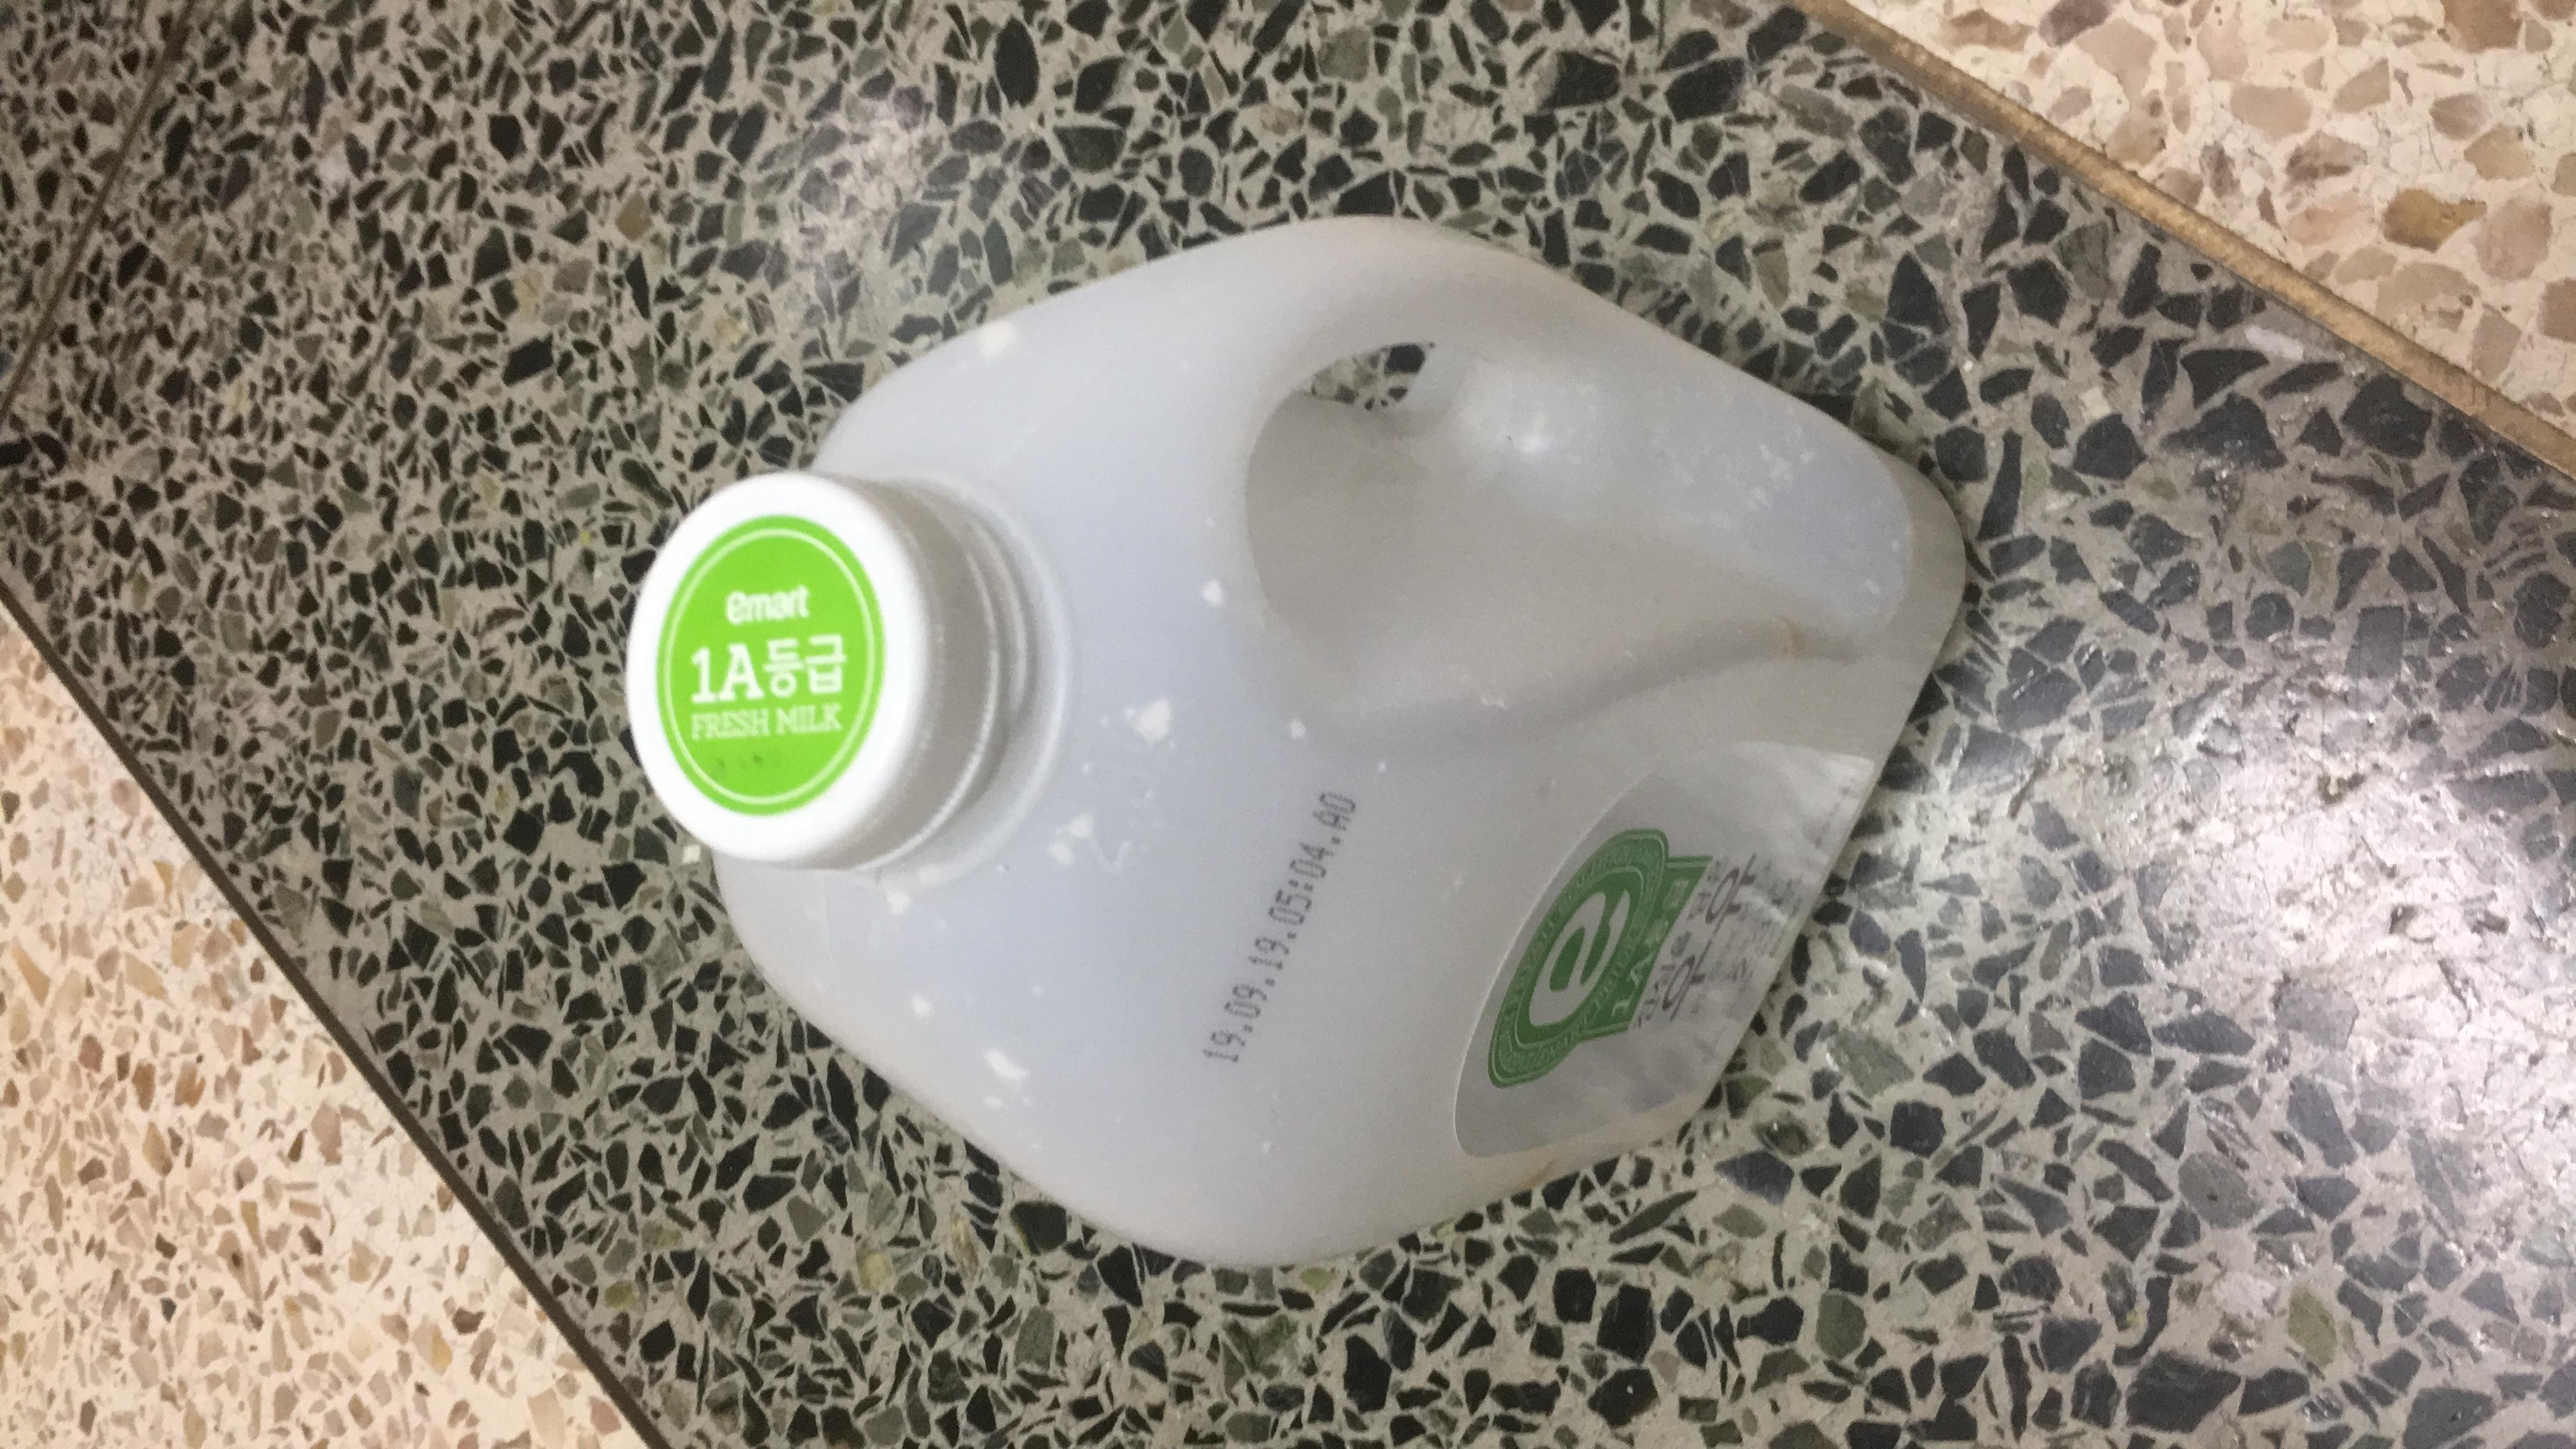bottle: (299, 363, 2240, 1086)
